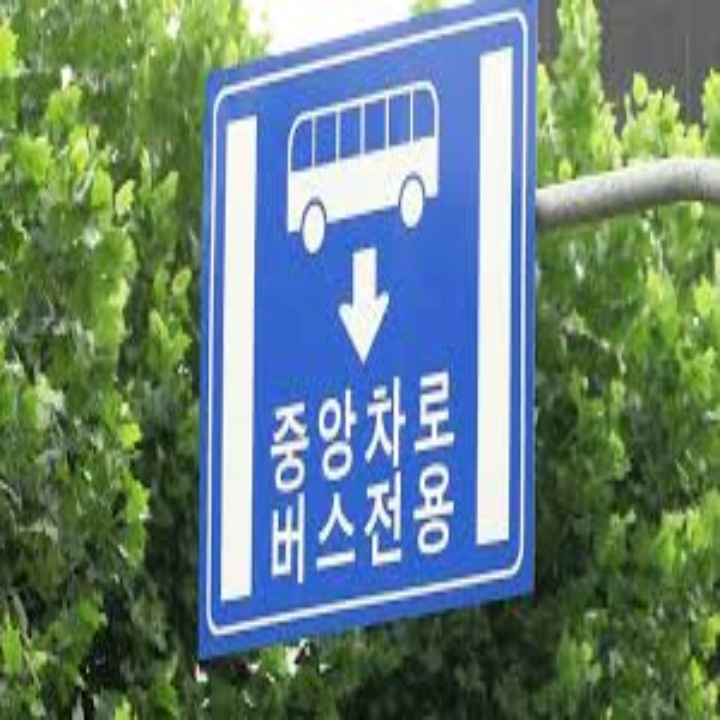bus: (280, 74, 449, 248)
